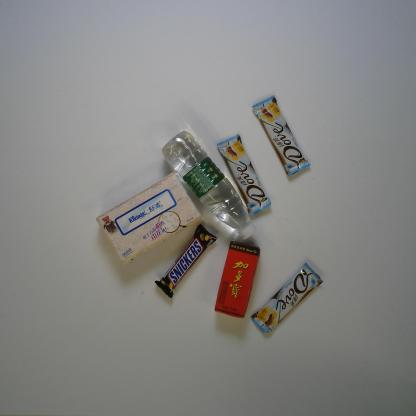Chocolate: (250, 262, 323, 334), (152, 222, 216, 300), (254, 94, 312, 178), (215, 133, 270, 217)
Drink: (162, 130, 260, 242), (211, 240, 262, 319)
Tissue: (94, 170, 203, 268)
